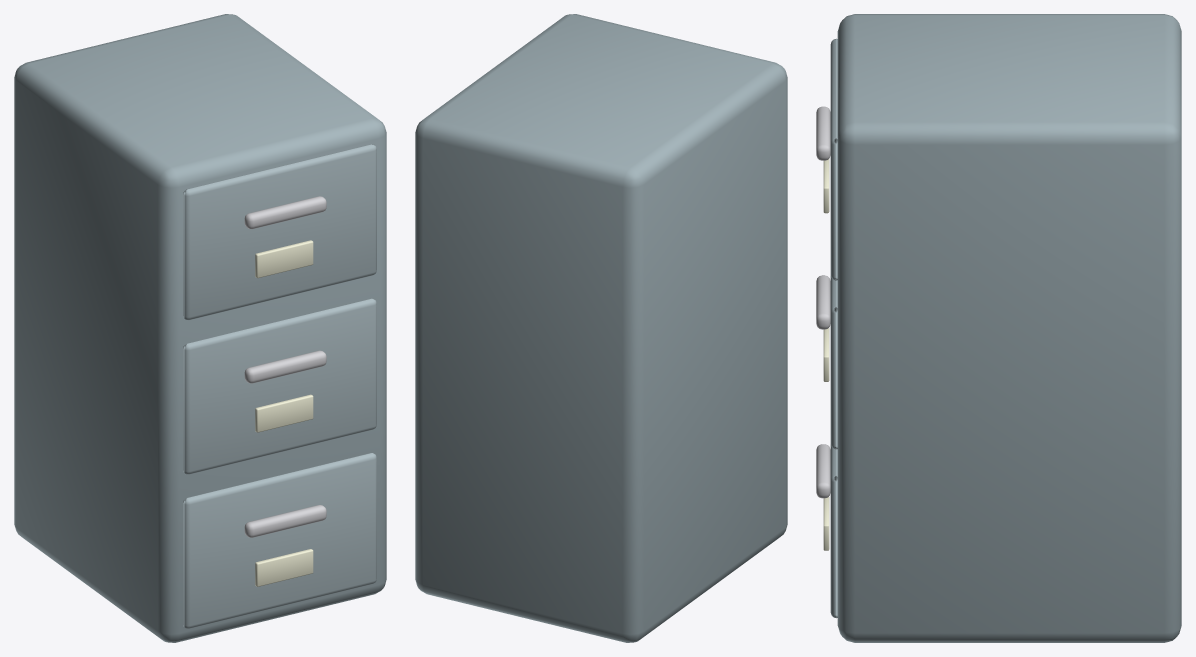
File: file_cabinet.glb
3 views of the same model, side by side, from view 1: azimuth 30°, elevation 25°; view 2: azimuth 150°, elevation 25°; view 3: azimuth 270°, elevation 25° (orthographic). The views are drawn at different scales.
Visible parts, largest first — view 1: fbody, fdrawer.001, fdrawer.002, fdrawer, flabel.001, flabel.002, flabel, fhandle.001, fhandle, fhandle.002; view 2: fbody; view 3: fbody, fdrawer.002, fdrawer, fdrawer.001, fhandle, fhandle.002, fhandle.001.
Part boxes in pixels (x1=…): fbody: x1=14, y1=14, x2=386, y2=642; fdrawer.001: x1=183, y1=298, x2=376, y2=474; fdrawer.002: x1=183, y1=144, x2=376, y2=320; fdrawer: x1=183, y1=453, x2=376, y2=628; flabel.001: x1=255, y1=394, x2=313, y2=432; flabel.002: x1=255, y1=240, x2=313, y2=278; flabel: x1=255, y1=549, x2=313, y2=586; fhandle.001: x1=244, y1=350, x2=326, y2=383; fhandle: x1=244, y1=505, x2=326, y2=537; fhandle.002: x1=244, y1=196, x2=326, y2=229; fbody: x1=415, y1=14, x2=787, y2=642; fbody: x1=837, y1=14, x2=1181, y2=642; fdrawer.002: x1=830, y1=38, x2=837, y2=280; fdrawer: x1=830, y1=444, x2=837, y2=618; fdrawer.001: x1=830, y1=276, x2=837, y2=449; fhandle: x1=816, y1=444, x2=830, y2=498; fhandle.002: x1=816, y1=106, x2=830, y2=160; fhandle.001: x1=816, y1=275, x2=830, y2=329.
Bounding box in the file's own units: 0.2 × 0.4 × 0.255.
